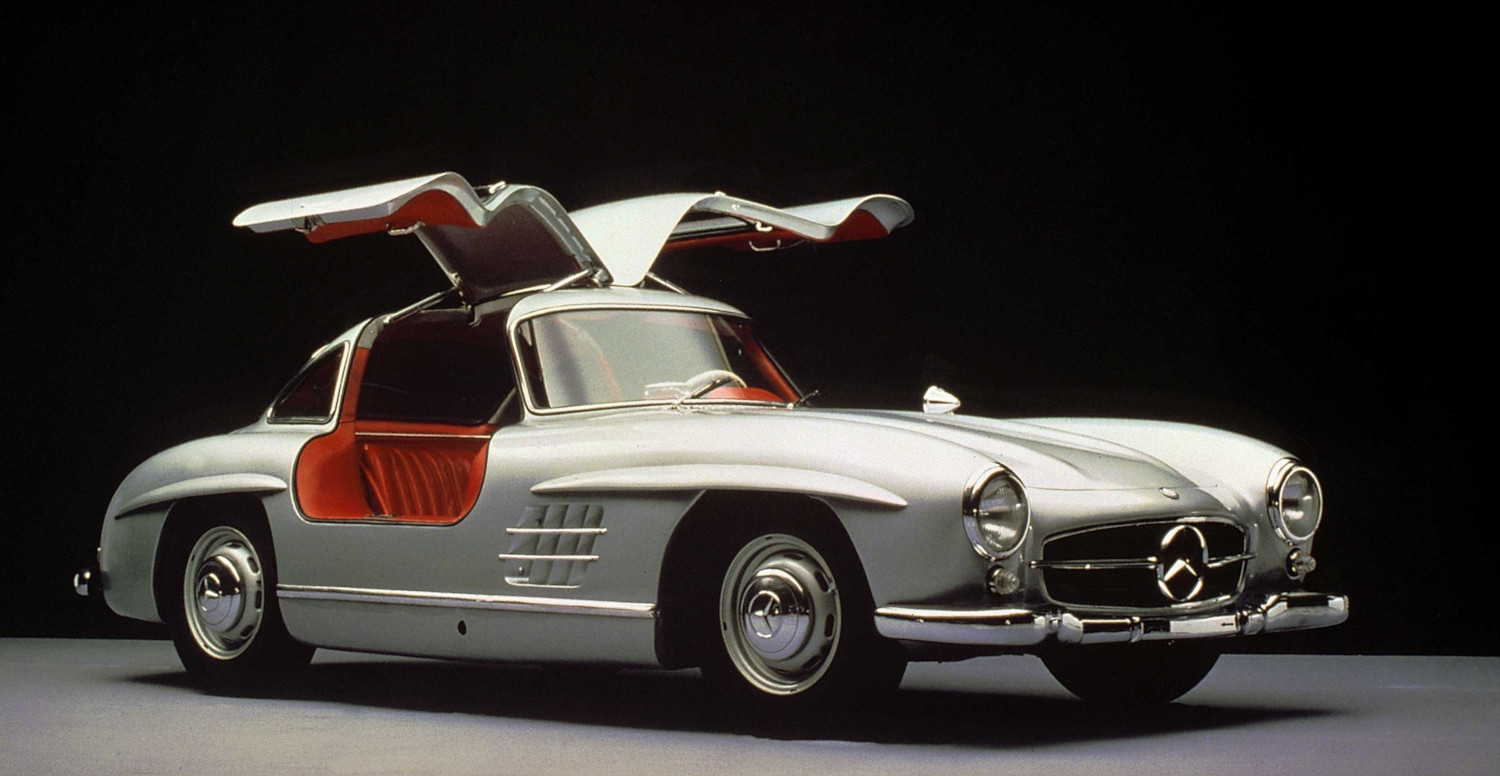car: (72, 168, 1355, 743)
